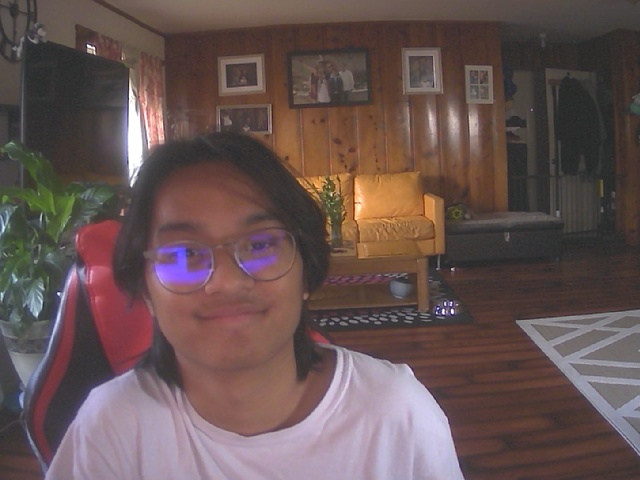happy: (138, 145, 313, 373)
